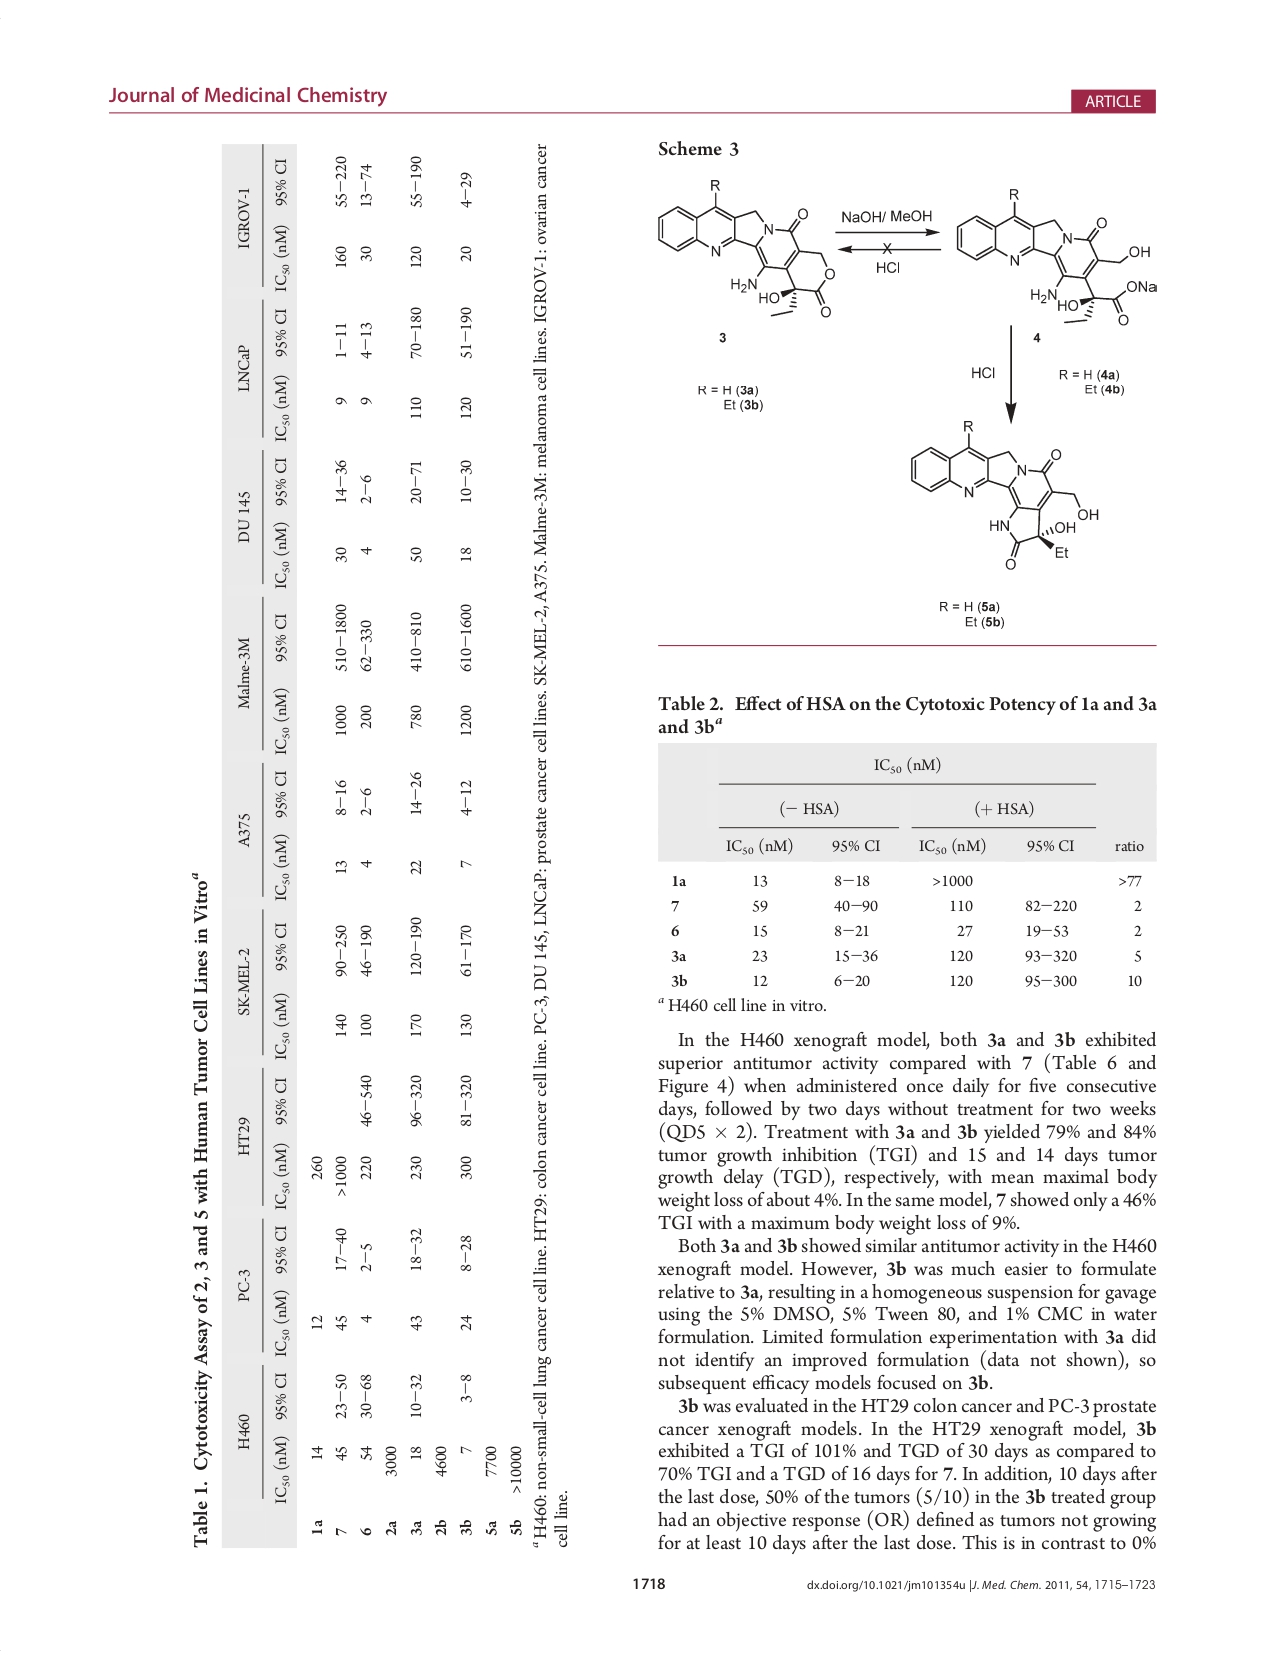exist_molecular: (949, 184, 1162, 328), (906, 418, 1102, 571), (654, 174, 836, 321)
